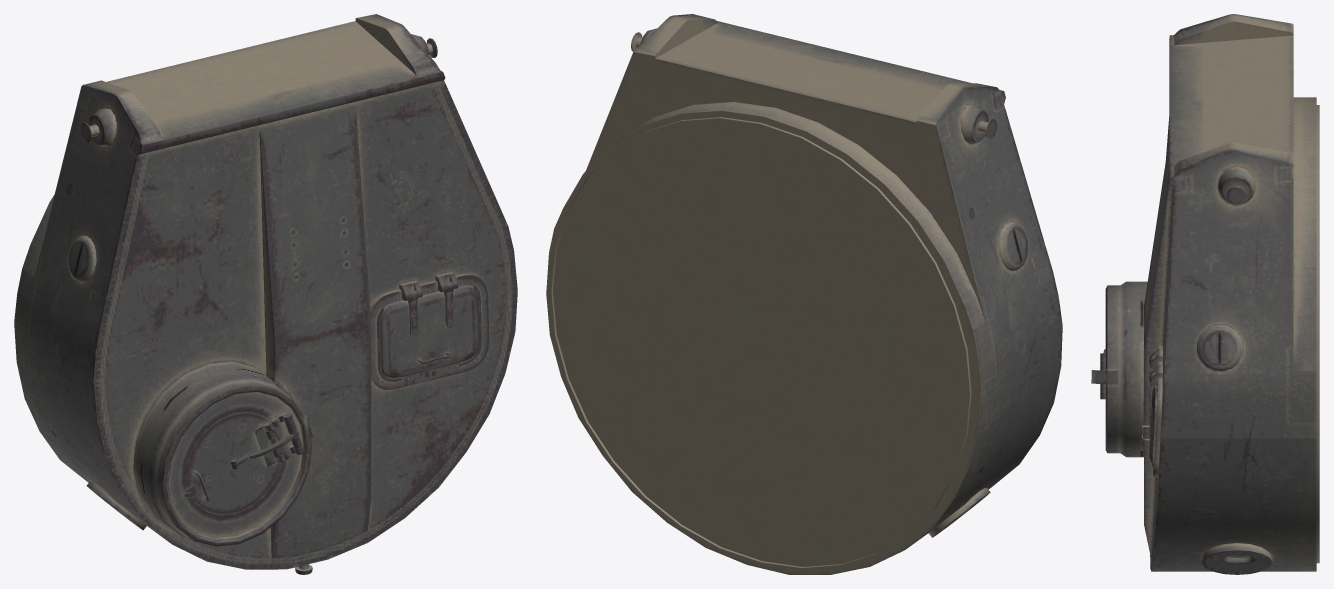
Rendered from Turret_02.glb.
3 views of the same model, side by side, from view 1: azimuth 30°, elevation 25°; view 2: azimuth 150°, elevation 25°; view 3: azimuth 270°, elevation 25° (orthographic). The views are drawn at different scales.
Visible parts, largest first — view 1: set_0_group_0; view 2: set_0_group_0; view 3: set_0_group_0.
Boxes of the visible parts, left/top/right/bottom form: set_0_group_0: left=14, top=14, right=517, bottom=574; set_0_group_0: left=546, top=14, right=1062, bottom=574; set_0_group_0: left=1091, top=14, right=1319, bottom=574.
Size of the model in its own units: 2.39 by 2.63 by 1.14.
1 material, 1 textured.
